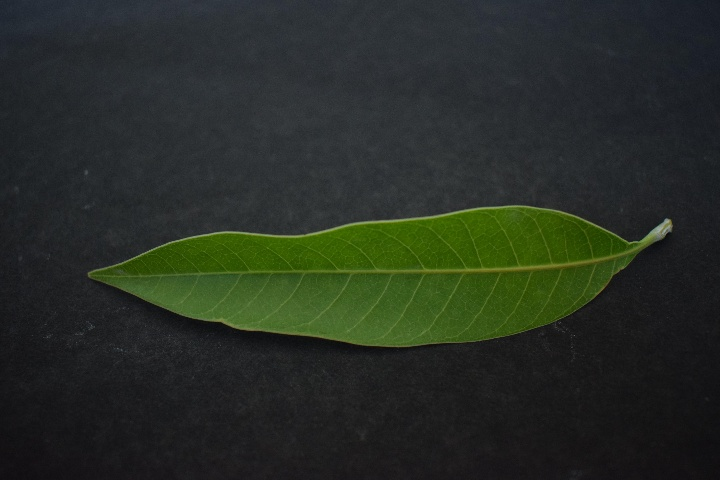healthy: (102, 198, 651, 353)
